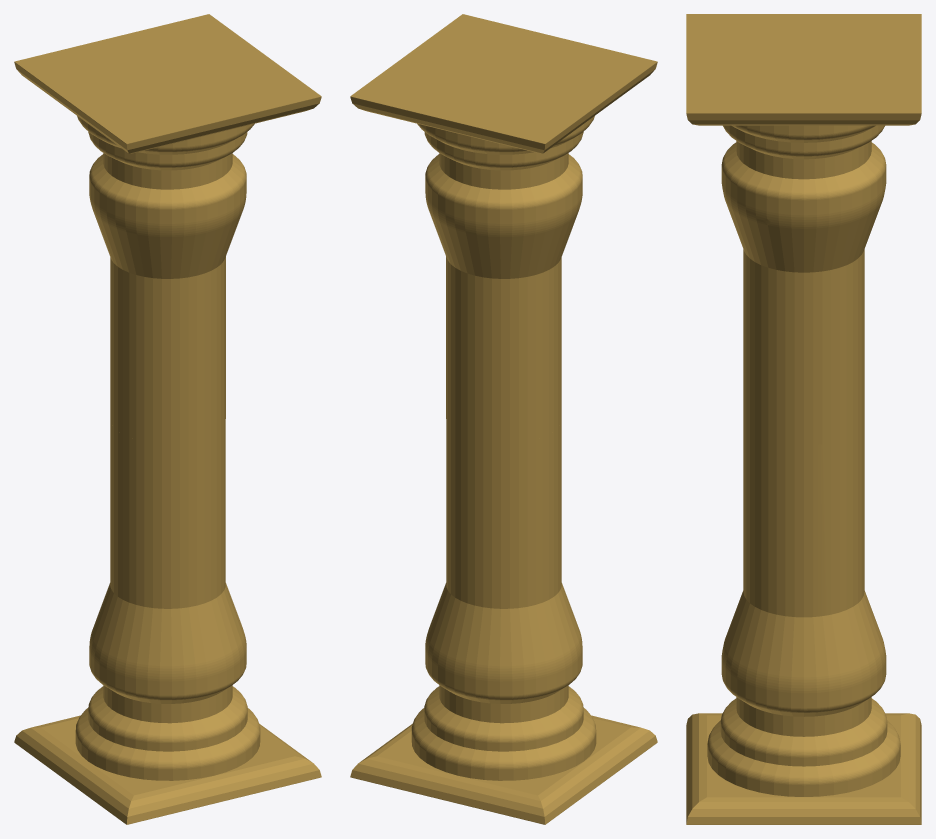
File: FBX_ENV_RUIN_Säule.fbx
The picture shows the model from 3 angles, left to right: view 1: azimuth 30°, elevation 25°; view 2: azimuth 150°, elevation 25°; view 3: azimuth 270°, elevation 25°; orthographic projection. The views are drawn at different scales.
Visible parts, largest first — view 1: Cube.001; view 2: Cube.001; view 3: Cube.001.
Boxes of the visible parts, x1,y1,x2,y2 form: Cube.001: (14,14,321,824); Cube.001: (350,14,657,824); Cube.001: (686,14,921,824).
Size of the model in its own units: 402 by 1342 by 402.
